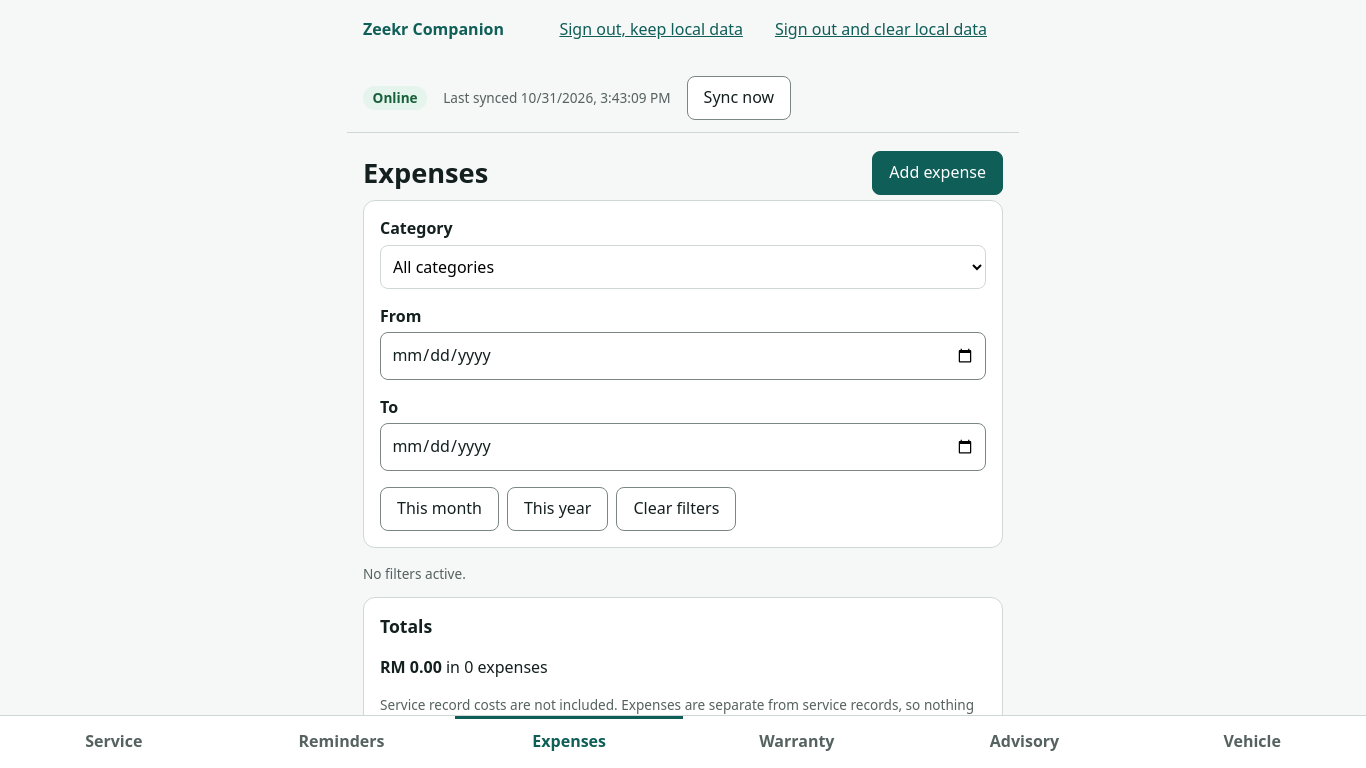
Test case: QA offline and local data › QA-W7 the clear-data dialog mentions expenses
The width and height of the screenshot is (1366, 768).
Click the button "Sign out and clear local data": [881, 30] box [759,8,1003,52]
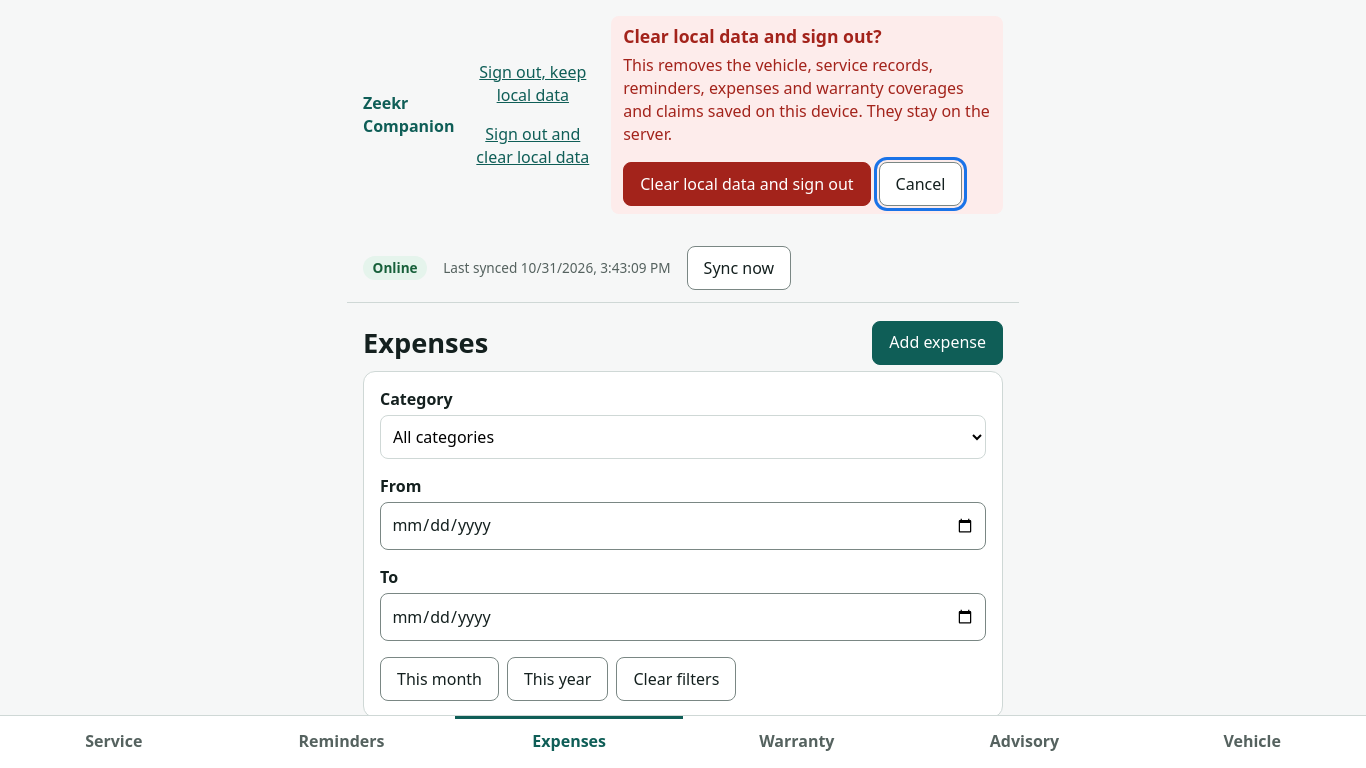
expect the dialog shows "expenses": met, box [623,54,990,145]
